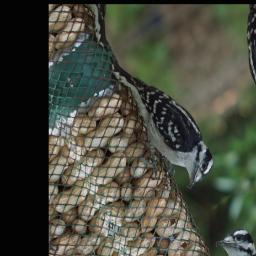Woodpecker: (96, 24, 227, 211)
